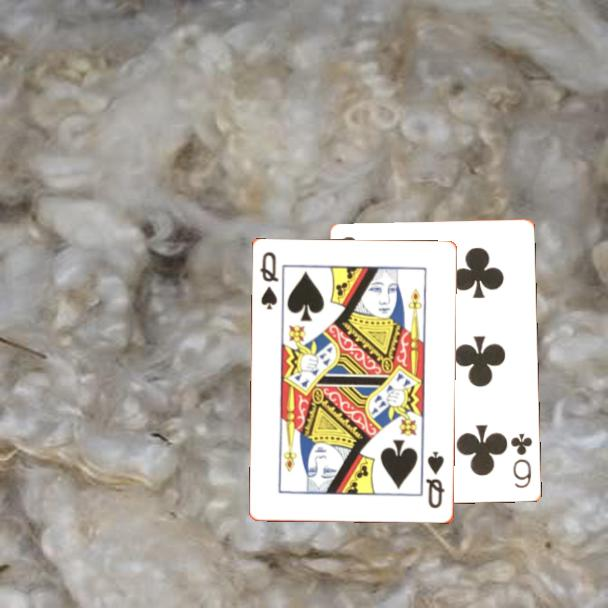c06: (508, 430, 535, 491)
s12: (423, 448, 448, 512), (257, 249, 282, 313)
